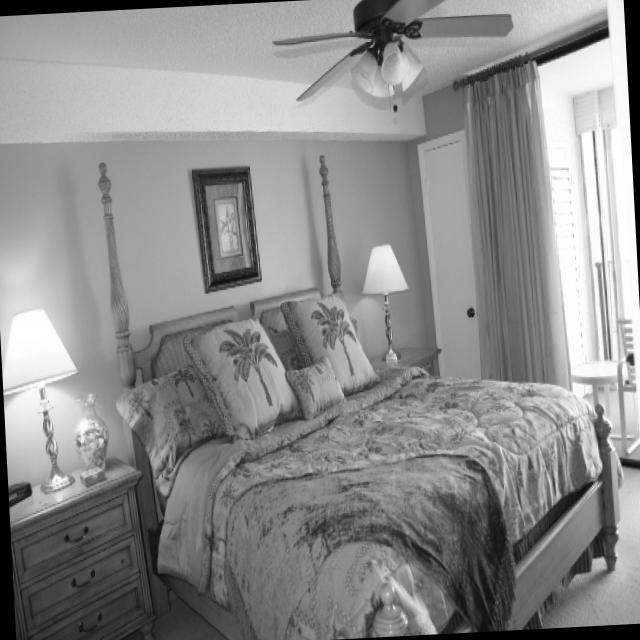bed -occluded-: (94, 147, 623, 640)
curtain crop: (463, 47, 569, 385)
door bars: (410, 118, 483, 369)
lamp crop: (2, 304, 80, 491), (360, 239, 409, 359)
pillow occluded: (182, 320, 300, 437)
tally: (186, 156, 261, 292)
